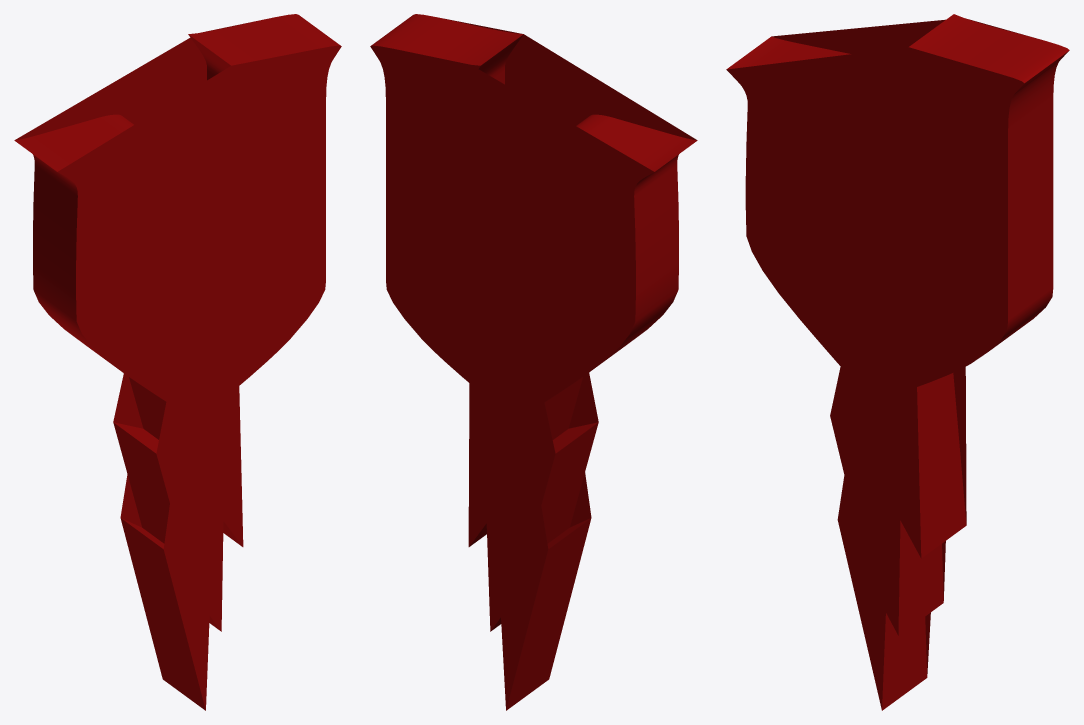
3 views of the same model, side by side, from view 1: azimuth 30°, elevation 25°; view 2: azimuth 150°, elevation 25°; view 3: azimuth 330°, elevation 25° (orthographic). The views are drawn at different scales.
Parts seen in each view (by area): view 1: polySurface124; view 2: polySurface124; view 3: polySurface124.
Boxes of the visible parts, x1,y1,x2,y2 form: polySurface124: [14, 14, 341, 710]; polySurface124: [370, 14, 697, 710]; polySurface124: [726, 14, 1069, 710].
Bounding box in the file's own units: 2.69 × 5.77 × 0.7068.
